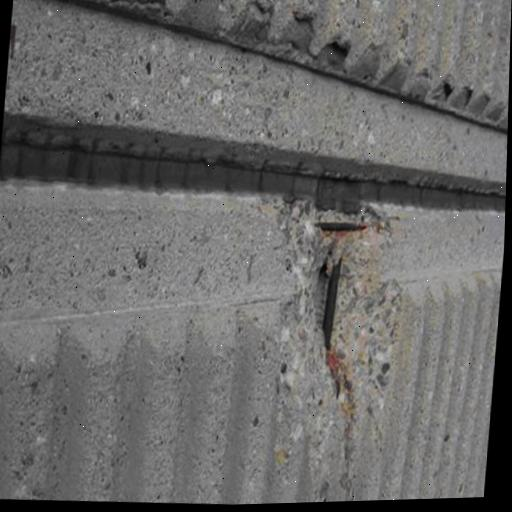exposed_rebar: (323, 258, 341, 350), (314, 224, 366, 231)
spalling: (269, 200, 417, 501)
